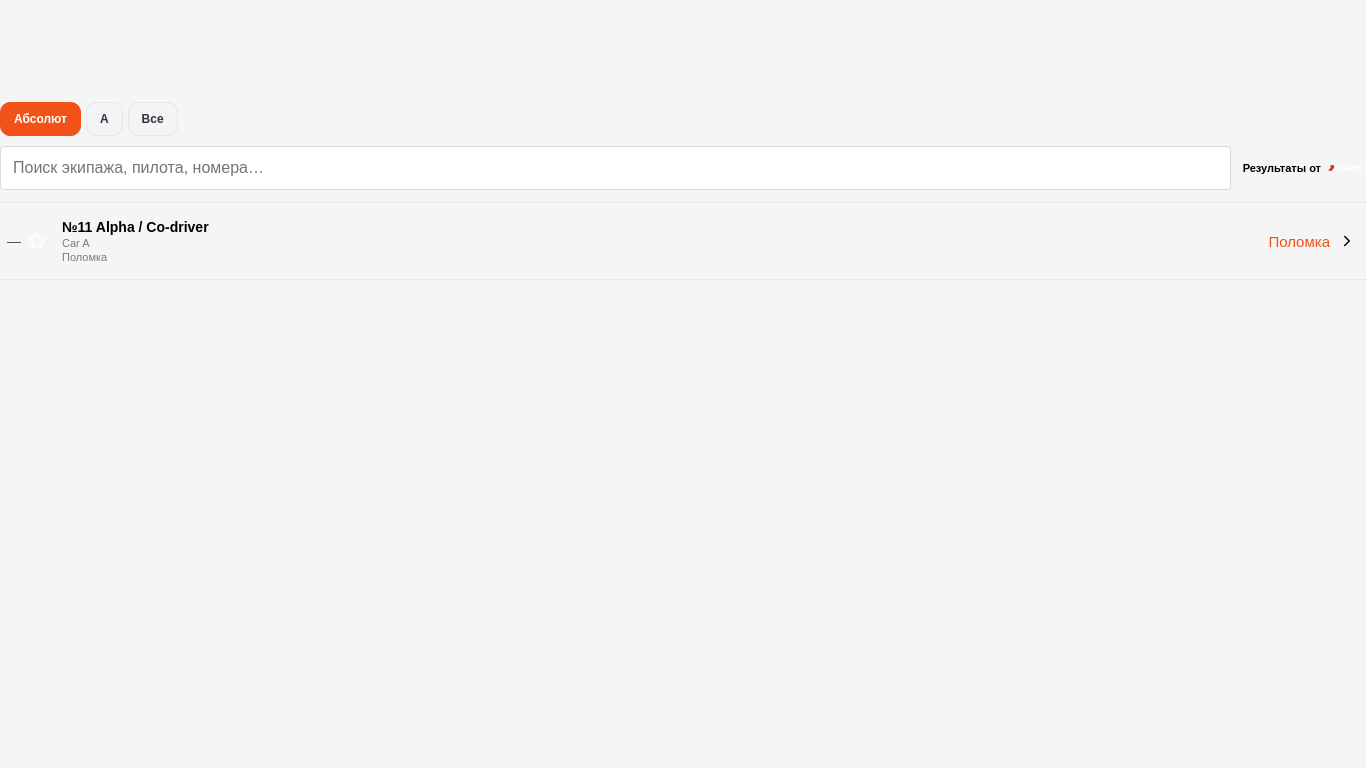
it: inline results screen › shows a retirement status in the card and in the details modal
This screenshot has width=1366, height=768.
Expected: the text "Поломка" is shown 2 times, [62, 251, 107, 263]; [1268, 232, 1330, 250]
Step 1. Click the button with aria-label "Открыть результаты экипажа Alpha" → click(152, 227), box [58, 203, 1365, 279]
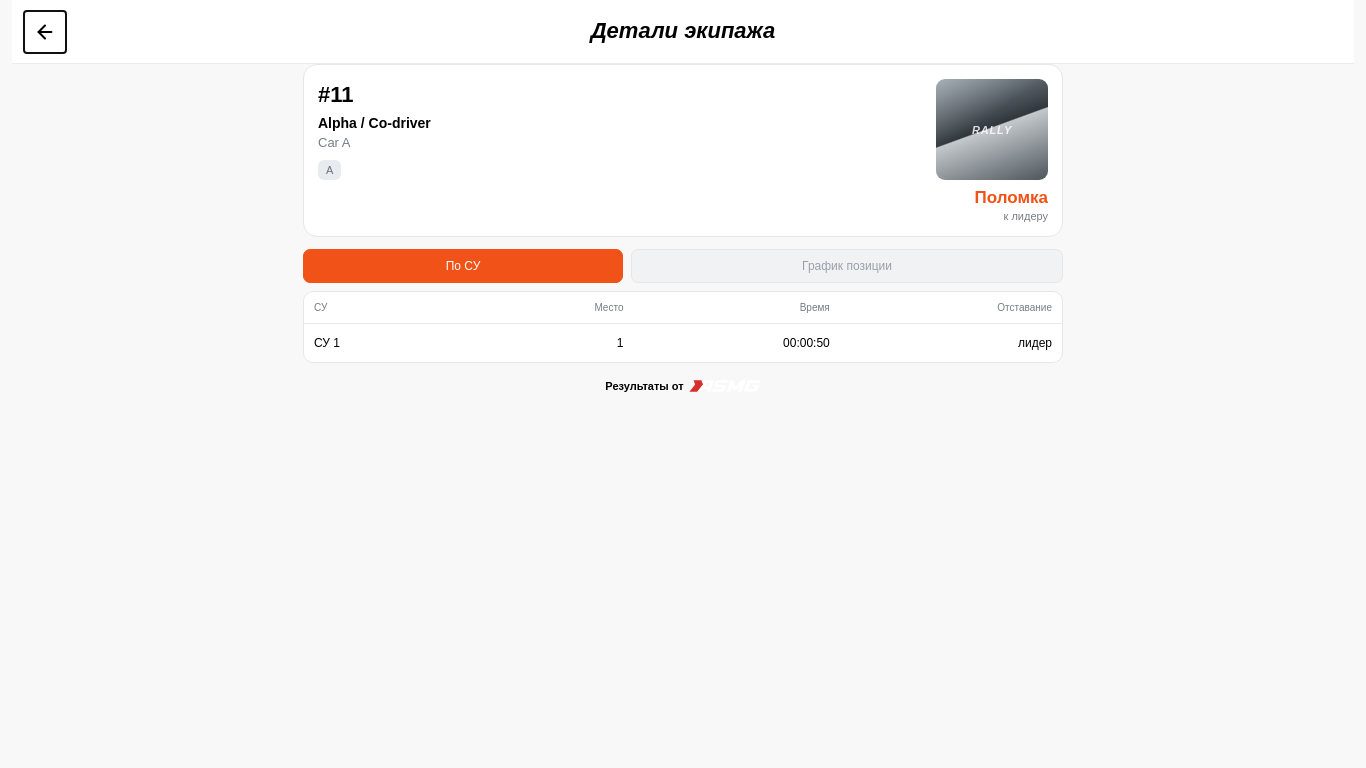
Expected: the dialog "Детали экипажа" is shown
Expected: the text "Поломка" is shown, [974, 188, 1048, 208]
